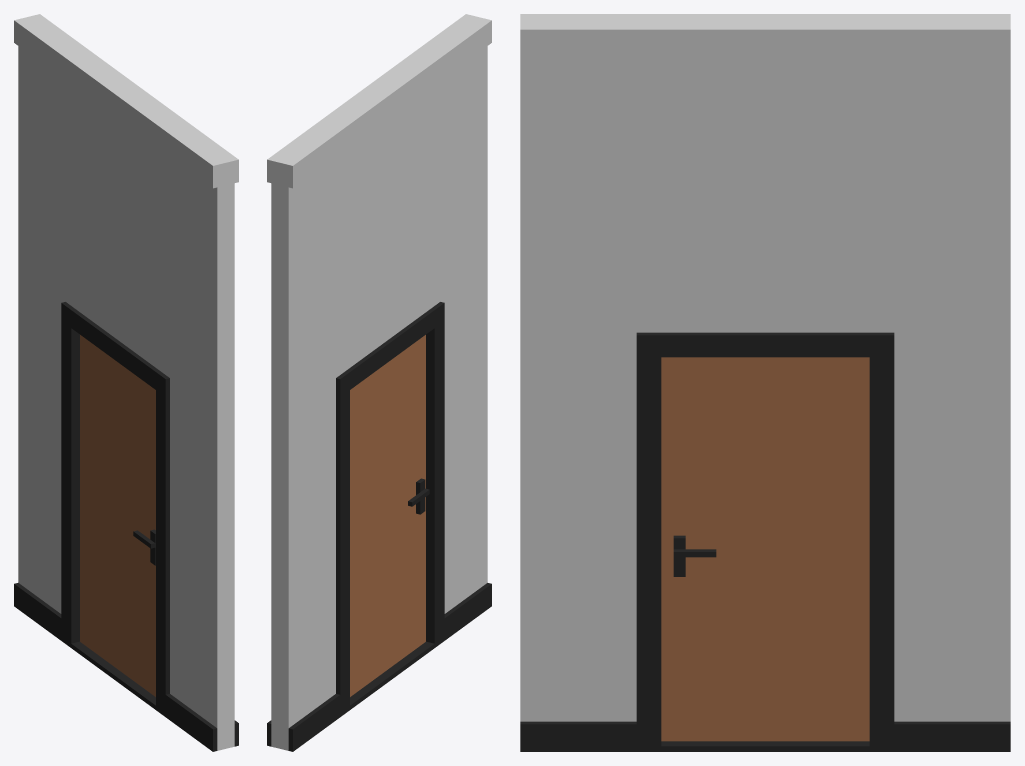
Rendered from wall_01_M_door.glb.
3 renders of one model, left to right at view 1: azimuth 30°, elevation 25°; view 2: azimuth 150°, elevation 25°; view 3: azimuth 270°, elevation 25°, orthographic. The views are drawn at different scales.
Parts seen in each view (by area): view 1: Untitled, Untitled.001; view 2: Untitled, Untitled.001; view 3: Untitled, Untitled.001.
Part boxes in pixels (bbox=[...]): Untitled: bbox=[14, 14, 238, 751]; Untitled.001: bbox=[80, 335, 155, 696]; Untitled: bbox=[267, 14, 491, 751]; Untitled.001: bbox=[350, 335, 429, 696]; Untitled: bbox=[520, 14, 1010, 751]; Untitled.001: bbox=[661, 357, 869, 741].
Size of the model in its own units: 0.18 by 3.9 by 2.4.
2 materials, 2 textured.
